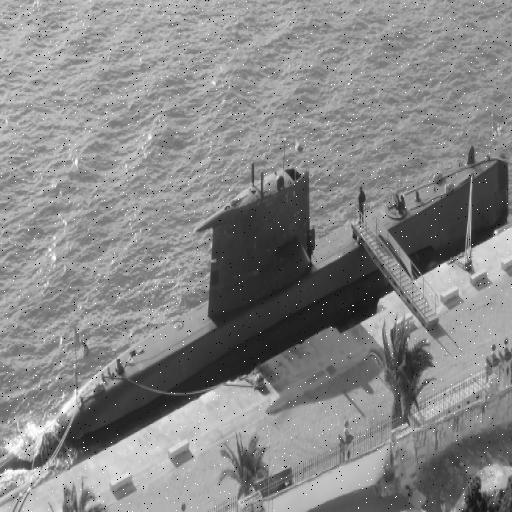submarine: (1, 133, 511, 489)
